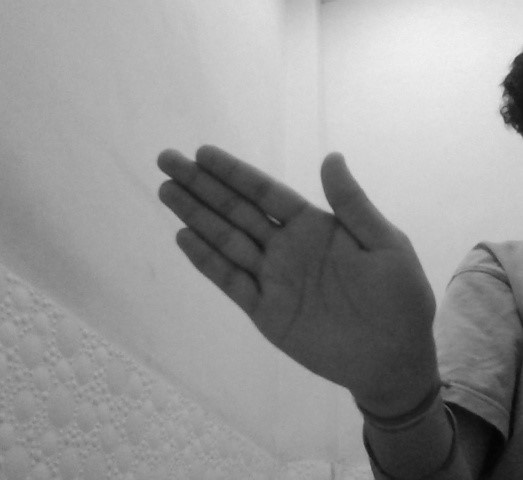Hello: (152, 143, 443, 397)
